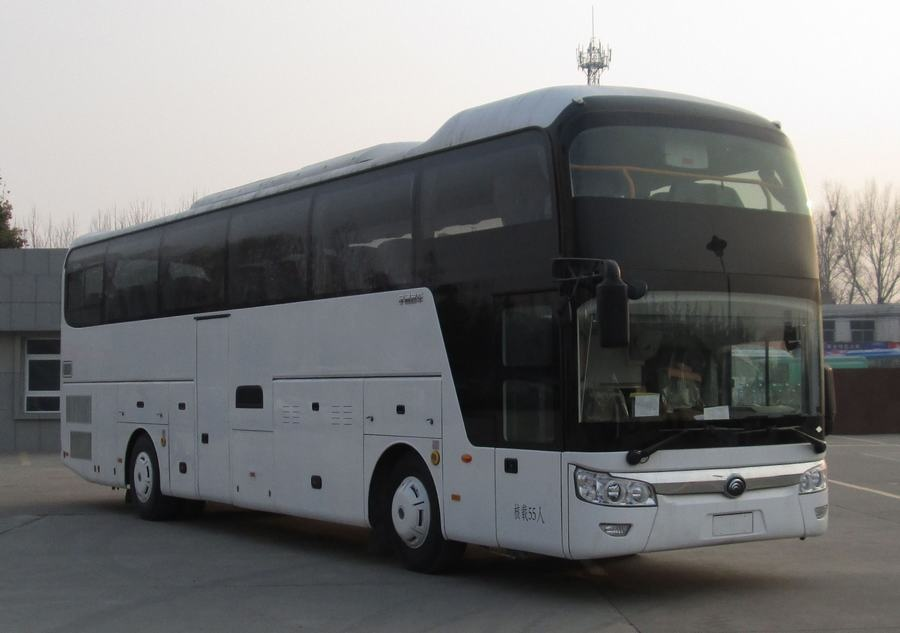bus: (46, 85, 832, 565)
